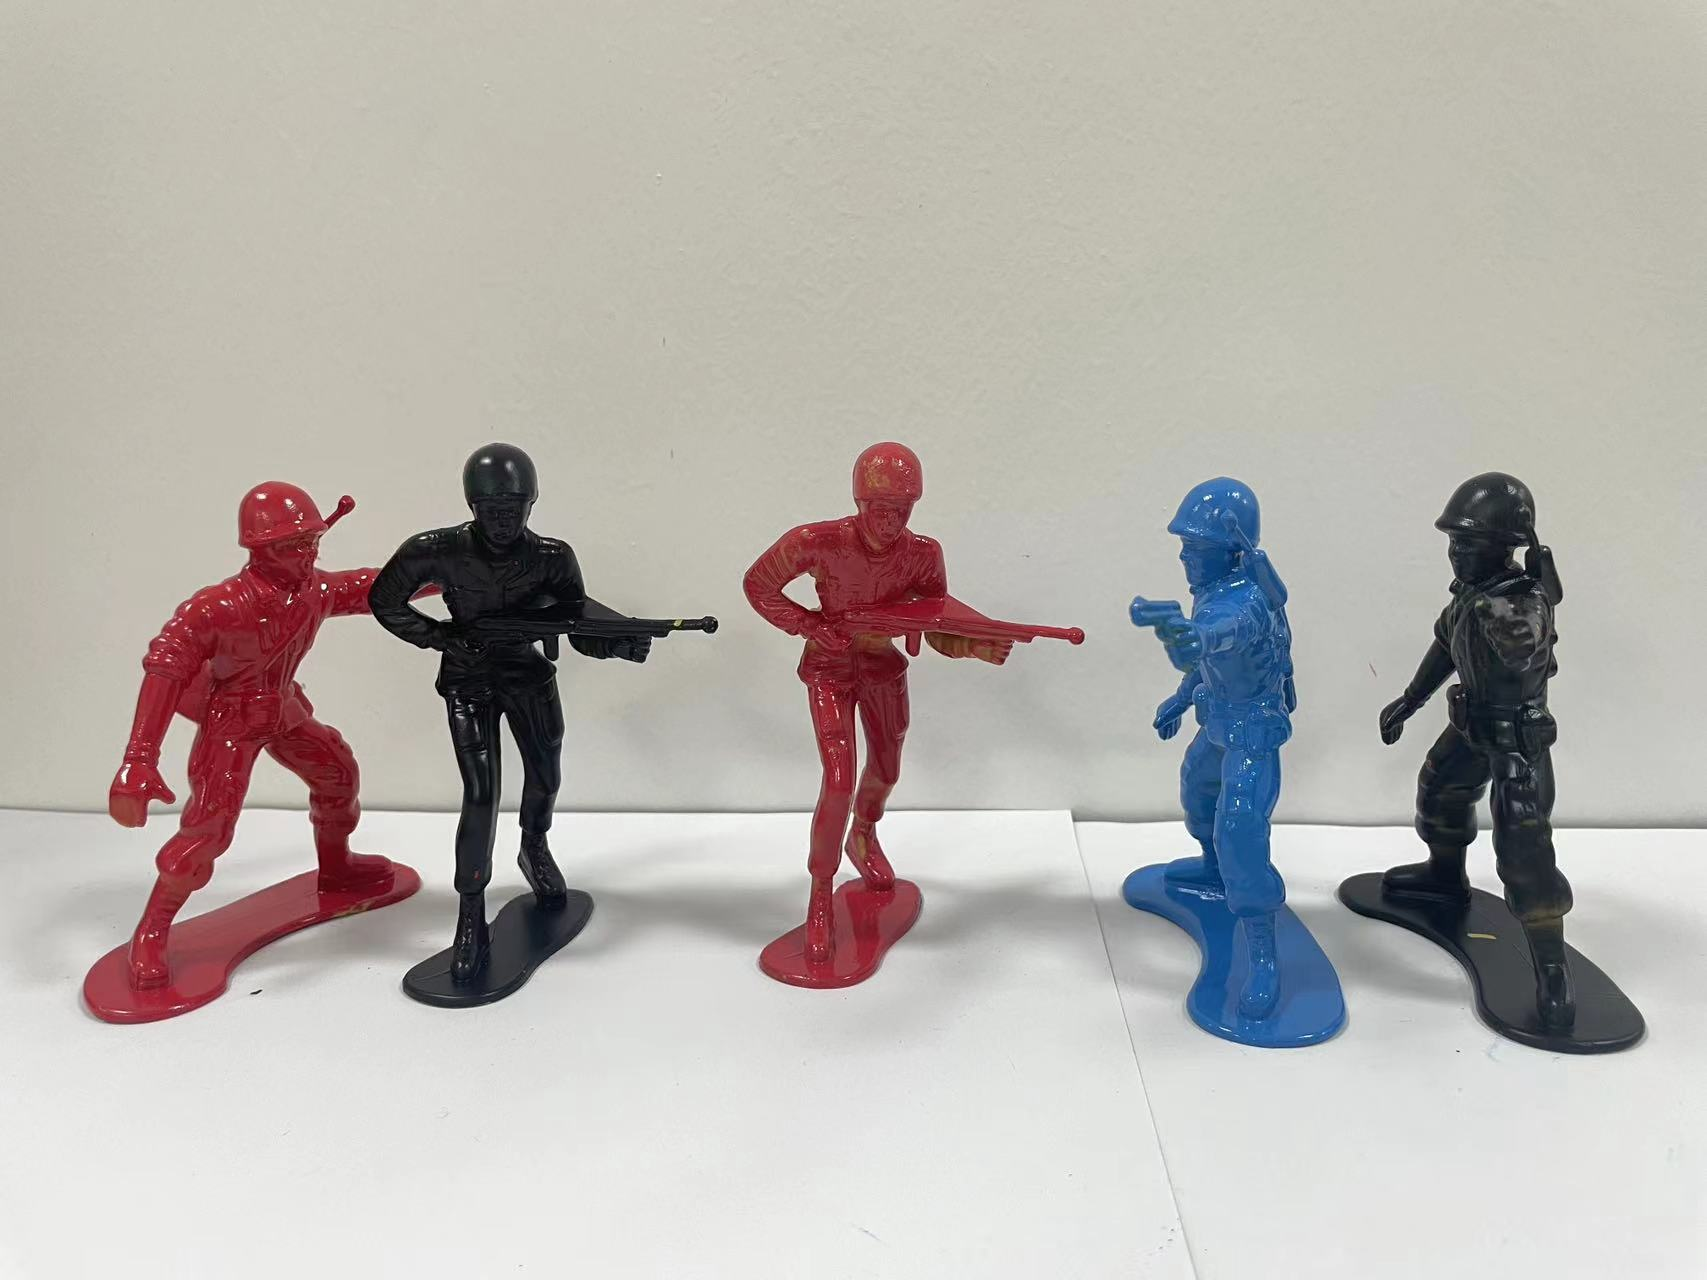black: (1337, 421, 1690, 1116), (352, 403, 718, 1062)
blue: (1089, 433, 1337, 1080)
red: (56, 376, 376, 1107), (724, 406, 1081, 1050)
